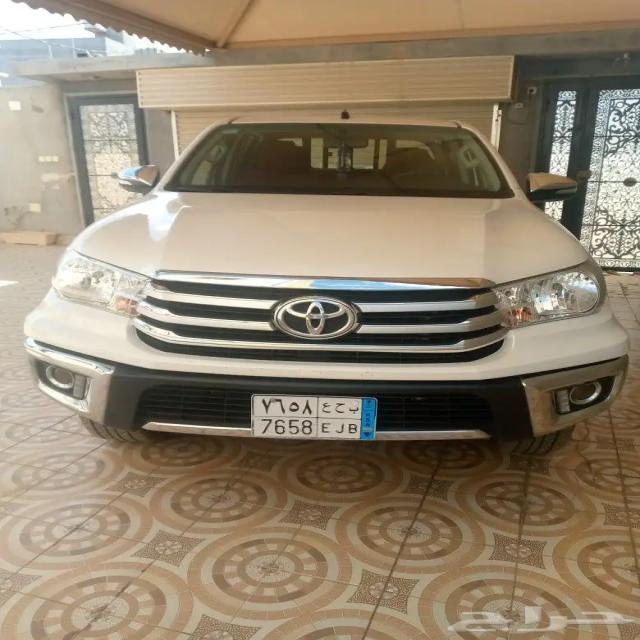license_plate: (250, 416, 362, 440)
